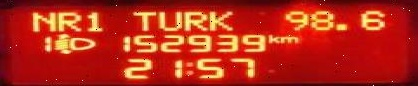-: (333, 21, 348, 31)
1: (81, 10, 104, 31), (170, 58, 182, 78), (118, 34, 130, 54), (41, 34, 50, 52)
2: (121, 57, 152, 80), (159, 33, 183, 52)
3: (213, 33, 237, 52)
5: (194, 57, 223, 79), (132, 34, 158, 53)
6: (357, 9, 386, 30)
7: (229, 57, 255, 78)
8: (308, 8, 334, 30)
9: (183, 33, 211, 52), (282, 11, 308, 30), (239, 33, 265, 51)
X: (182, 9, 208, 30), (208, 9, 234, 30), (29, 9, 53, 31), (155, 10, 180, 31), (129, 10, 154, 31), (55, 10, 79, 31), (183, 60, 192, 75), (279, 35, 298, 42), (267, 33, 277, 43)
